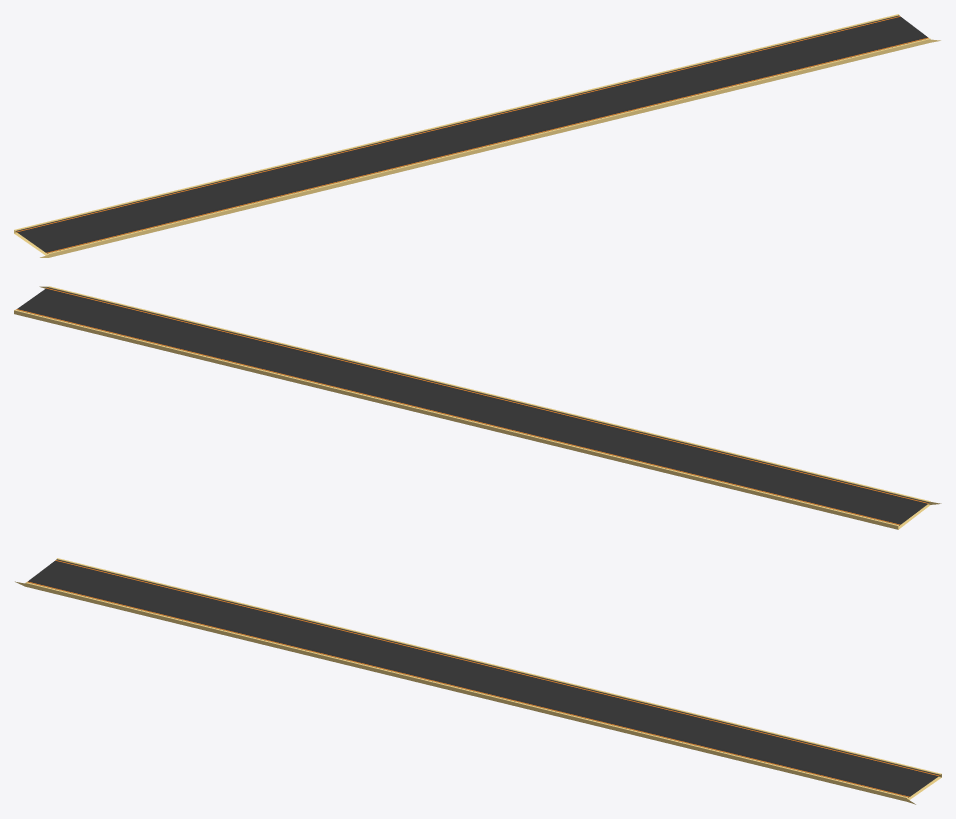
The model's file is Road01.FBX.
3 views of the same model, one above another, from view 1: azimuth 30°, elevation 25°; view 2: azimuth 150°, elevation 25°; view 3: azimuth 330°, elevation 25° (orthographic).
Visible parts, largest first — view 1: Road01; view 2: Road01; view 3: Road01.
Boxes of the visible parts, <box> form: Road01: <box>14,14,940,257</box>; Road01: <box>14,286,941,529</box>; Road01: <box>15,558,941,804</box>.
Size of the model in its own units: 12172 by 48.14 by 801.
